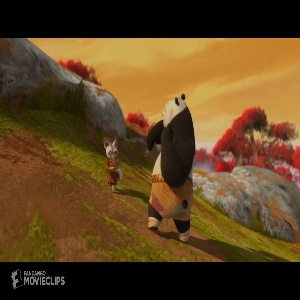po: (141, 90, 199, 244)
shifu: (101, 136, 125, 193)
